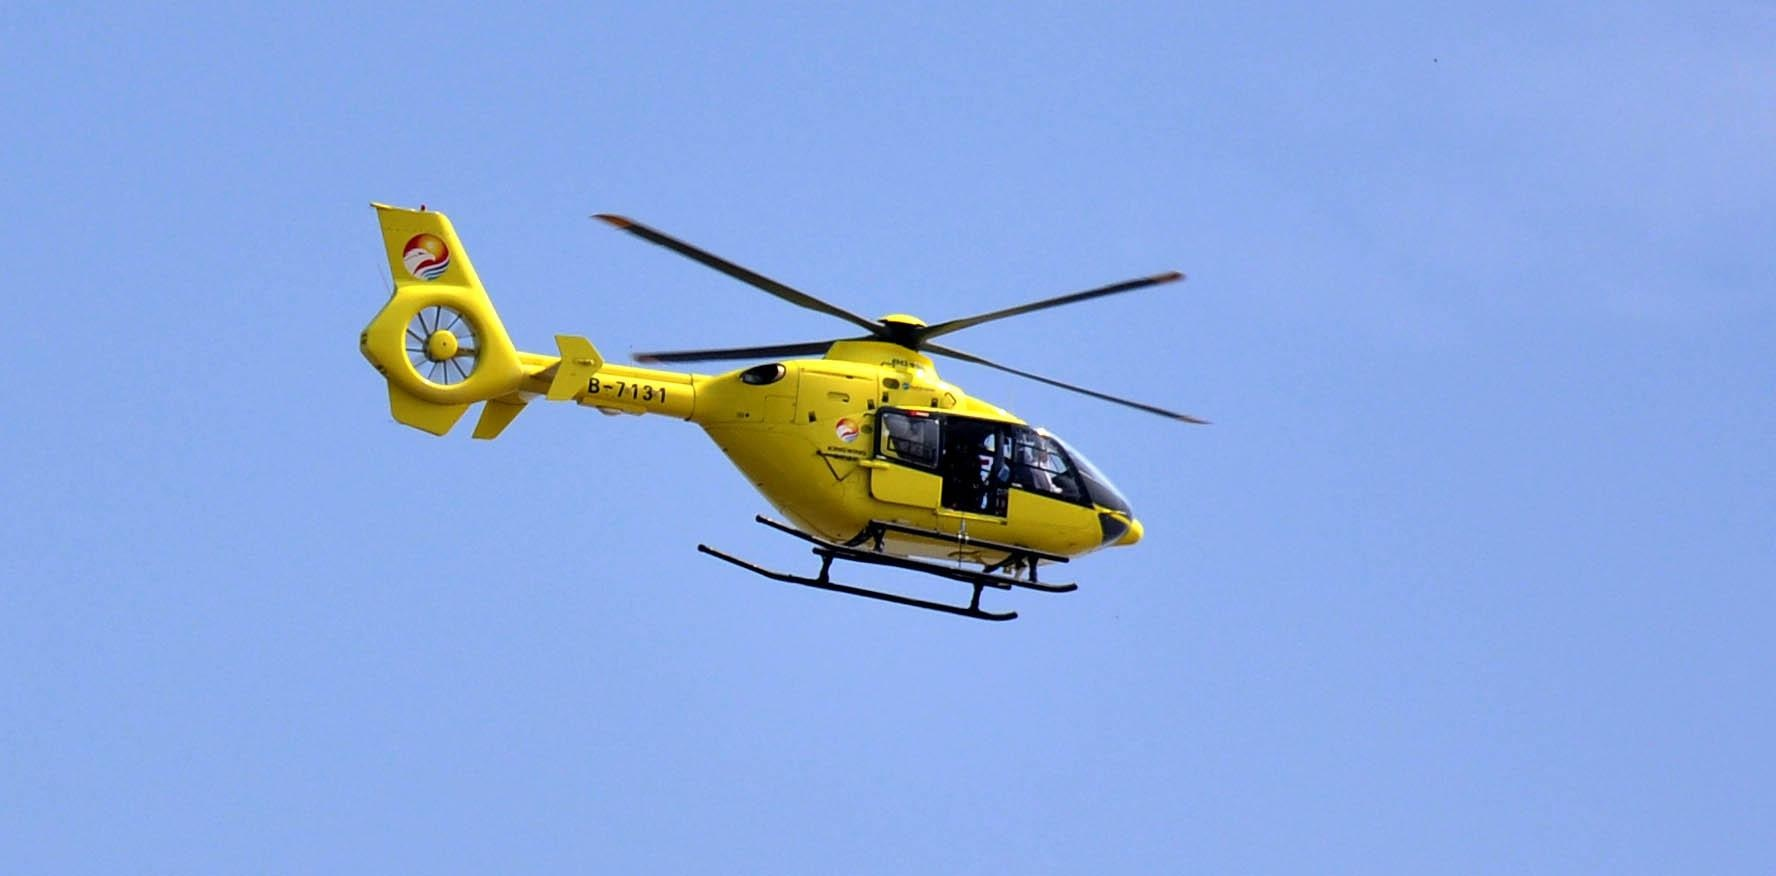airplane: (301, 193, 1230, 627)
